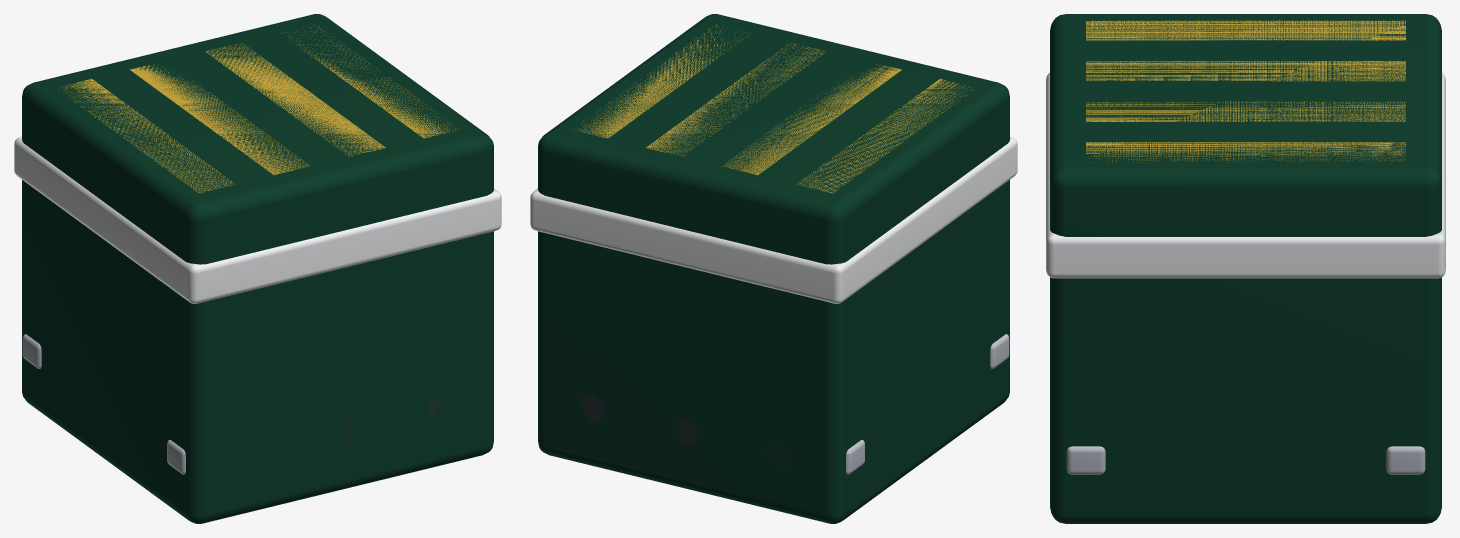
File: slider.glb
3 views of the same model, side by side, from view 1: azimuth 30°, elevation 25°; view 2: azimuth 150°, elevation 25°; view 3: azimuth 270°, elevation 25° (orthographic). The views are drawn at different scales.
Visible parts, largest first — view 1: slider; view 2: slider; view 3: slider.
Boxes of the visible parts, <box> form: slider: <box>14,14,501,523</box>; slider: <box>530,14,1017,523</box>; slider: <box>1046,14,1445,523</box>.
Bounding box in the file's own units: 1 × 0.98 × 1.
